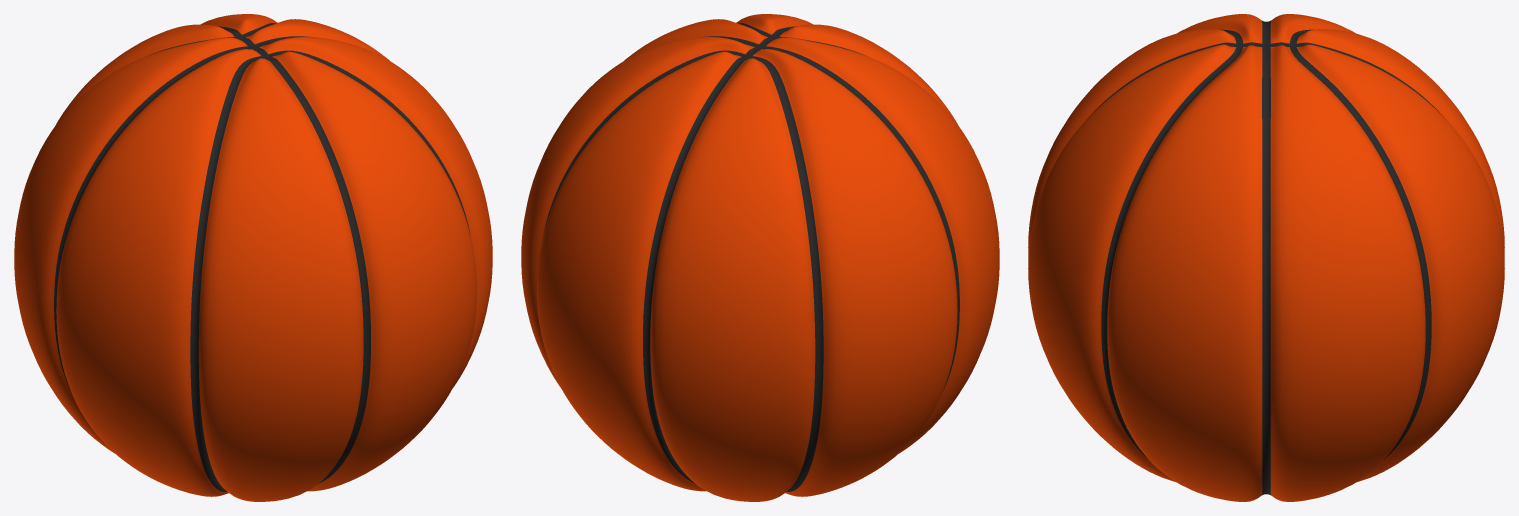
Rendered from ball.glb.
The picture shows the model from 3 angles, left to right: view 1: azimuth 30°, elevation 25°; view 2: azimuth 150°, elevation 25°; view 3: azimuth 270°, elevation 25°; orthographic projection.
Parts seen in each view (by area): view 1: Sphere; view 2: Sphere; view 3: Sphere.
Boxes of the visible parts, x1,y1,x2,y2 form: Sphere: [14, 14, 492, 501]; Sphere: [521, 14, 999, 501]; Sphere: [1028, 14, 1504, 501].
Bounding box in the file's own units: 1.92 × 1.96 × 1.92.
